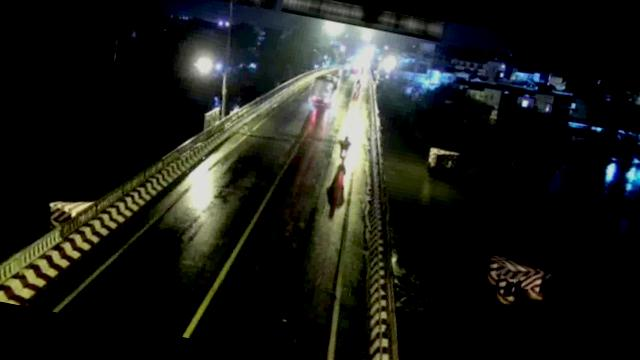Bike: (332, 132, 354, 160)
Truck: (308, 68, 341, 108)
